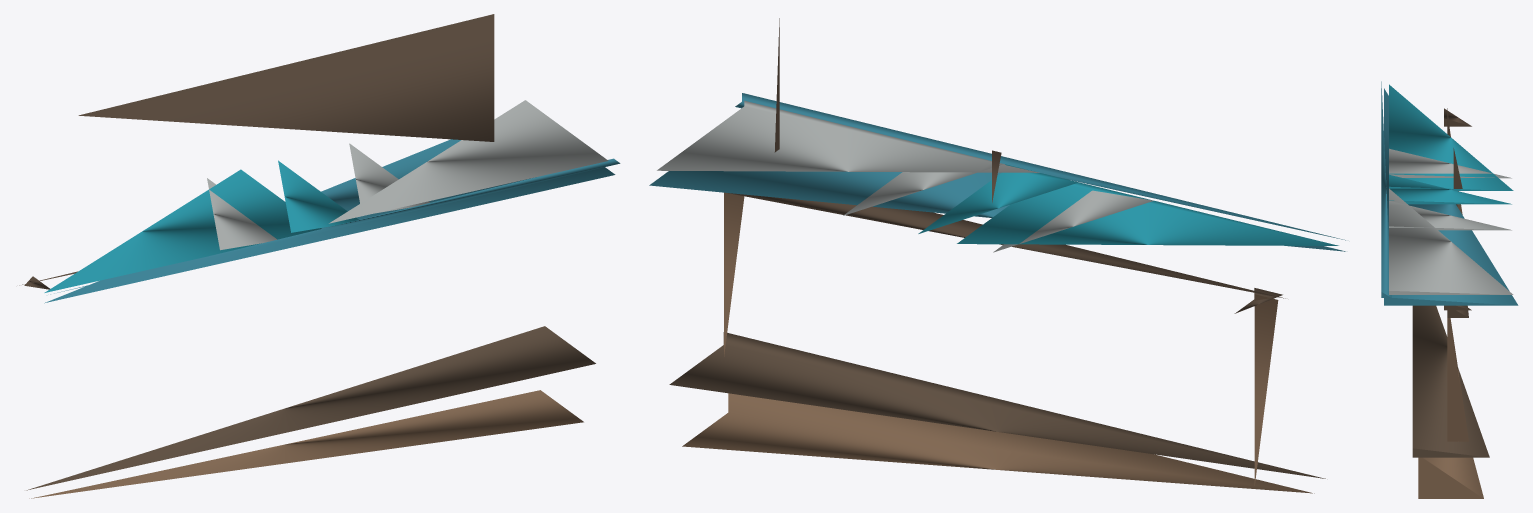
File: shop.glb
3 views of the same model, side by side, from view 1: azimuth 30°, elevation 25°; view 2: azimuth 150°, elevation 25°; view 3: azimuth 270°, elevation 25° (orthographic). The views are drawn at different scales.
Visible parts, largest first — view 1: Sign backing, Counter top, Solid counter, Pale awning stripe, Blue awning stripe, Awning trim, Blue awning stripe 2, Front awning edge, Pale awning stripe 2, Pale awning stripe 3; view 2: Solid counter, Counter top, Pale awning stripe, Blue awning stripe, Awning trim, Header beam, Front awning edge, Blue awning stripe 2, Left timber post, Pale awning stripe 2, Pale awning stripe 3, Right timber post; view 3: Pale awning stripe, Counter top, Blue awning stripe, Awning trim, Solid counter, Blue awning stripe 2, Right timber post, Pale awning stripe 2, Front awning edge, Pale awning stripe 3, Left post cap, Header beam (+1 smaller).
Part boxes in pixels (box(x1,y1,x2,y2)): Sign backing: box(78, 14, 494, 141); Counter top: box(26, 326, 595, 490); Solid counter: box(29, 390, 583, 498); Pale awning stripe: box(329, 100, 608, 223); Blue awning stripe: box(44, 169, 321, 292); Awning trim: box(44, 139, 615, 303); Blue awning stripe 2: box(278, 160, 358, 232); Front awning edge: box(50, 158, 620, 294); Pale awning stripe 2: box(207, 178, 276, 250); Pale awning stripe 3: box(349, 143, 430, 215); Solid counter: box(682, 393, 1314, 493); Counter top: box(669, 332, 1325, 478); Pale awning stripe: box(657, 100, 1039, 172); Blue awning stripe: box(957, 177, 1338, 245); Awning trim: box(649, 171, 1345, 251); Header beam: box(728, 193, 1285, 298); Front awning edge: box(735, 93, 1345, 240); Blue awning stripe 2: box(918, 164, 1078, 233); Left timber post: box(1254, 294, 1278, 485); Pale awning stripe 2: box(993, 190, 1153, 252); Pale awning stripe 3: box(843, 147, 1003, 215); Right timber post: box(724, 192, 744, 356); Pale awning stripe: box(1389, 188, 1513, 294); Counter top: box(1412, 305, 1489, 457); Blue awning stripe: box(1389, 84, 1513, 190); Awning trim: box(1384, 88, 1518, 305); Solid counter: box(1418, 457, 1483, 498); Blue awning stripe 2: box(1389, 174, 1511, 204); Right timber post: box(1447, 318, 1468, 441); Pale awning stripe 2: box(1389, 148, 1511, 178); Front awning edge: box(1381, 81, 1391, 297); Pale awning stripe 3: box(1389, 201, 1511, 230); Left post cap: box(1444, 108, 1471, 126); Header beam: box(1447, 108, 1468, 317).
Size of the model in its own units: 8.75 by 5.92 by 2.4.
